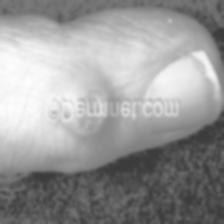Toxin: (74, 84, 108, 139)
